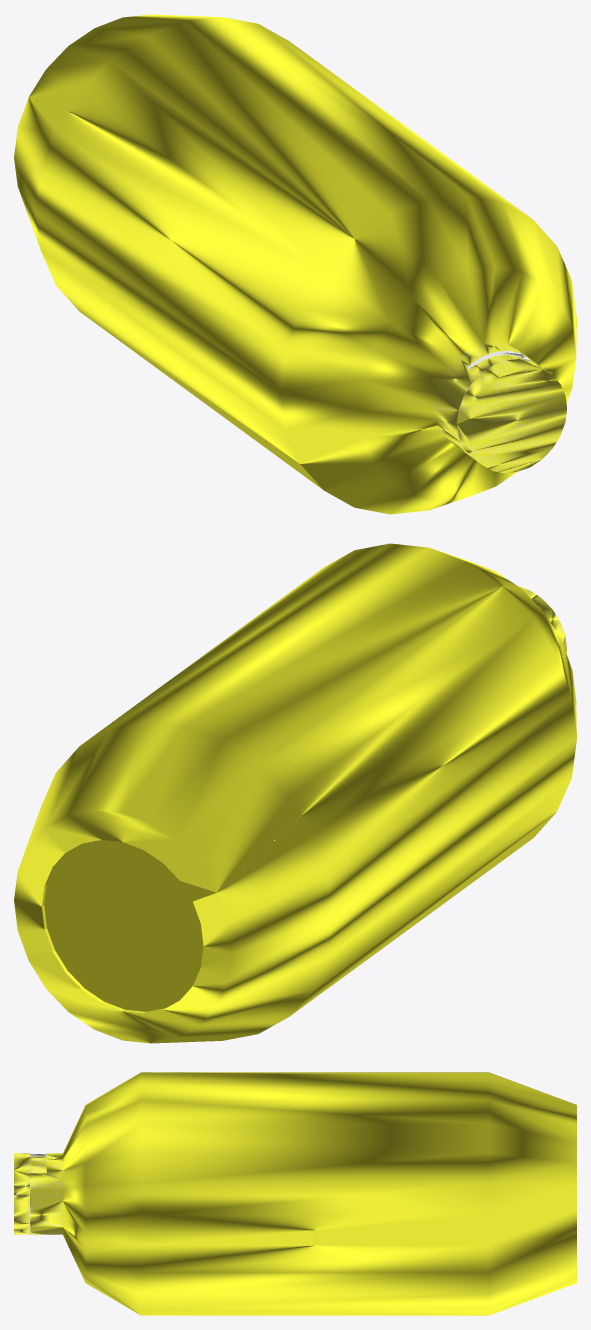
File: model_align.obj
3 renders of one model, top to bottom at view 1: azimuth 30°, elevation 25°; view 2: azimuth 150°, elevation 25°; view 3: azimuth 270°, elevation 25°, orthographic. The views are drawn at different scales.
Bounding box in the file's own units: 0.0788 × 0.0788 × 0.1817.
